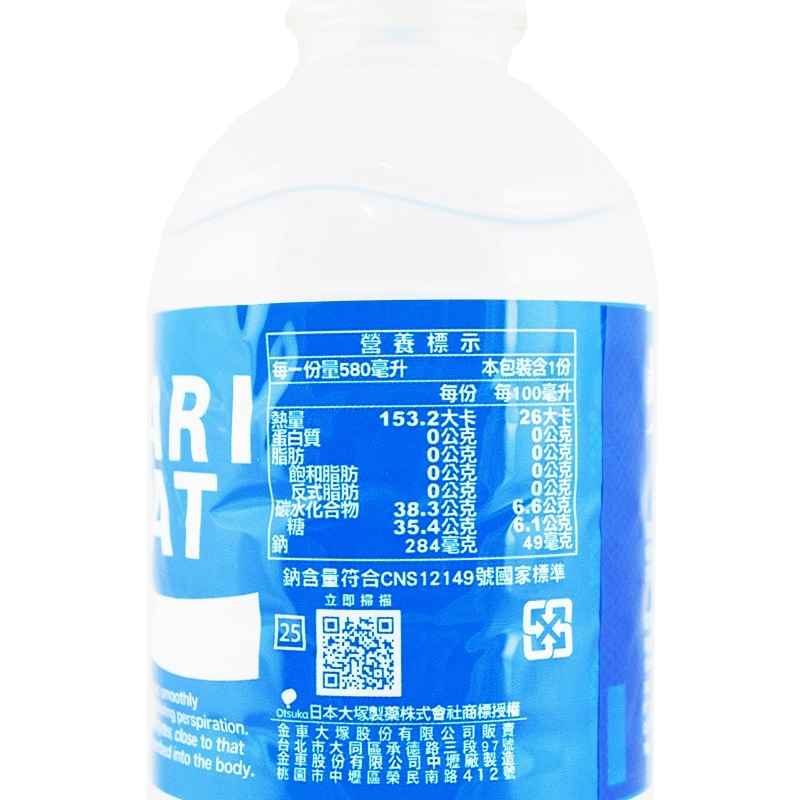POCARI SWEAT: (155, 1, 649, 799)
